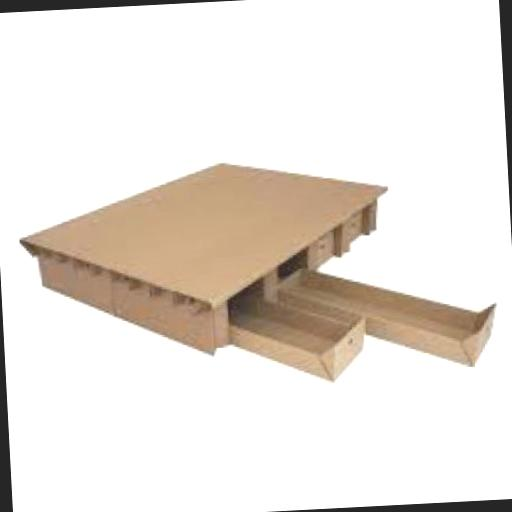cardboard: (16, 150, 391, 367), (276, 256, 498, 378), (227, 284, 366, 384)
